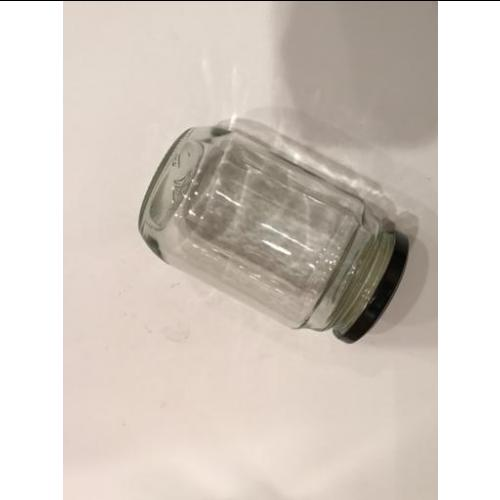glass: (144, 126, 408, 342)
